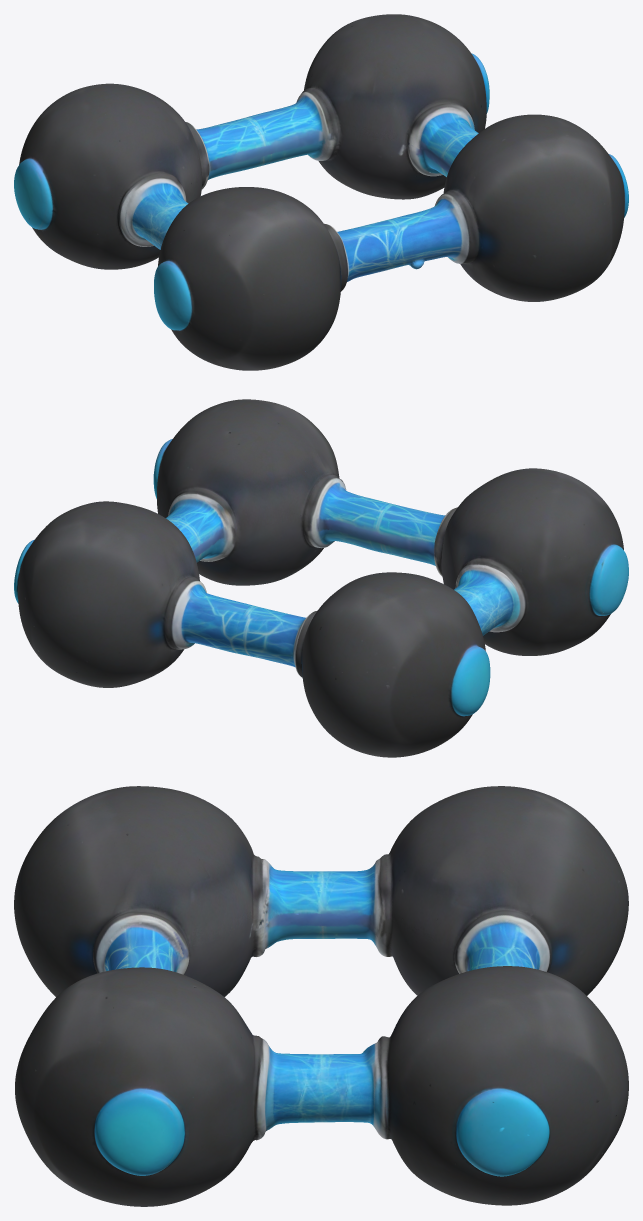
File: Api_Nodes.glb
3 renders of one model, top to bottom at view 1: azimuth 30°, elevation 25°; view 2: azimuth 150°, elevation 25°; view 3: azimuth 270°, elevation 25°, orthographic. The views are drawn at different scales.
Bounding box in the file's own units: 2 × 0.6939 × 1.79.
Materials: 1 (1 with a texture image).
